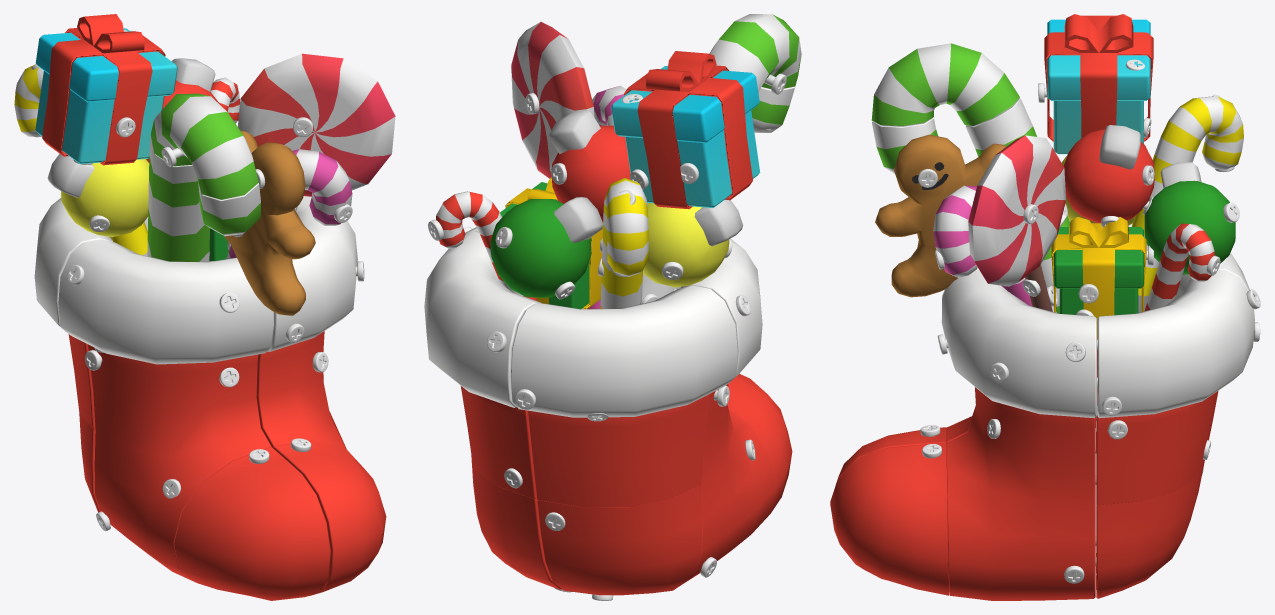
The picture shows the model from 3 angles, left to right: view 1: azimuth 30°, elevation 25°; view 2: azimuth 150°, elevation 25°; view 3: azimuth 270°, elevation 25°; orthographic projection. The views are drawn at different scales.
Visible parts, largest first — view 1: Cube_L2 11.005, Cube_L2 3.007, Cube_L2 4.006, Cube_L1 5.006, Cube_L1 12.005, Cube_L1 3.009, Cube_L2 5.006, Cube_L1 1.009, Cube_L2 6.006, Cube_L2.008, Cube_L1 10.006, Cube_L1 2.009 (+9 smaller); view 2: Cube_L2 2.007, Cube_L1 5.006, Cube_L2 8.006, Cube_L2 9.005, Cube_L2 1.007, Cube_L2 11.005, Cube_L1 8.006, Cube_L1 12.005, Cube_L1 10.006, Cube_L1 7.006, Cube_L1 6.006, Cube_L2 7.006 (+8 smaller); view 3: Cube_L2 6.006, Cube_L2 1.007, Cube_L2.008, Cube_L2 5.006, Cube_L1 5.006, Cube_L1 12.005, Cube_L2 7.006, Cube_L1 1.009, Cube_L1 3.009, Cube_L1 11.006, Cube_L2 10.005, Cube_L1 7.006 (+8 smaller).
Boxes of the visible parts, left/top/right/bottom form: Cube_L2 11.005: left=88, top=344, right=272, bottom=582; Cube_L2 3.007: left=58, top=239, right=274, bottom=364; Cube_L2 4.006: left=174, top=447, right=330, bottom=600; Cube_L1 5.006: left=35, top=14, right=177, bottom=165; Cube_L1 12.005: left=238, top=53, right=395, bottom=196; Cube_L1 3.009: left=223, top=130, right=315, bottom=315; Cube_L2 5.006: left=273, top=441, right=386, bottom=595; Cube_L1 1.009: left=150, top=93, right=258, bottom=199; Cube_L2 6.006: left=256, top=331, right=349, bottom=452; Cube_L2.008: left=267, top=196, right=357, bottom=351; Cube_L1 10.006: left=47, top=153, right=149, bottom=237; Cube_L1 2.009: left=147, top=135, right=209, bottom=261; Cube_L2 2.007: left=510, top=285, right=737, bottom=417; Cube_L1 5.006: left=611, top=51, right=760, bottom=209; Cube_L2 8.006: left=528, top=394, right=709, bottom=507; Cube_L2 9.005: left=537, top=484, right=702, bottom=595; Cube_L2 1.007: left=424, top=231, right=541, bottom=407; Cube_L2 11.005: left=682, top=384, right=775, bottom=584; Cube_L1 8.006: left=490, top=197, right=602, bottom=297; Cube_L1 12.005: left=511, top=22, right=594, bottom=178; Cube_L1 10.006: left=643, top=200, right=743, bottom=287; Cube_L1 7.006: left=549, top=110, right=630, bottom=222; Cube_L1 6.006: left=600, top=178, right=648, bottom=308; Cube_L2 7.006: left=461, top=386, right=536, bottom=499; Cube_L2 6.006: left=946, top=387, right=1095, bottom=600; Cube_L2 1.007: left=1097, top=270, right=1254, bottom=418; Cube_L2.008: left=941, top=271, right=1096, bottom=418; Cube_L2 5.006: left=830, top=443, right=949, bottom=595; Cube_L1 5.006: left=1044, top=14, right=1153, bottom=154; Cube_L1 12.005: left=968, top=135, right=1065, bottom=311; Cube_L2 7.006: left=1096, top=391, right=1218, bottom=505; Cube_L1 1.009: left=871, top=43, right=1019, bottom=126; Cube_L1 3.009: left=875, top=134, right=1005, bottom=297; Cube_L1 11.006: left=1051, top=217, right=1146, bottom=339; Cube_L2 10.005: left=1096, top=460, right=1204, bottom=598; Cube_L1 7.006: left=1063, top=125, right=1154, bottom=223.
Size of the model in its own units: 8.06 by 14.22 by 10.59.
